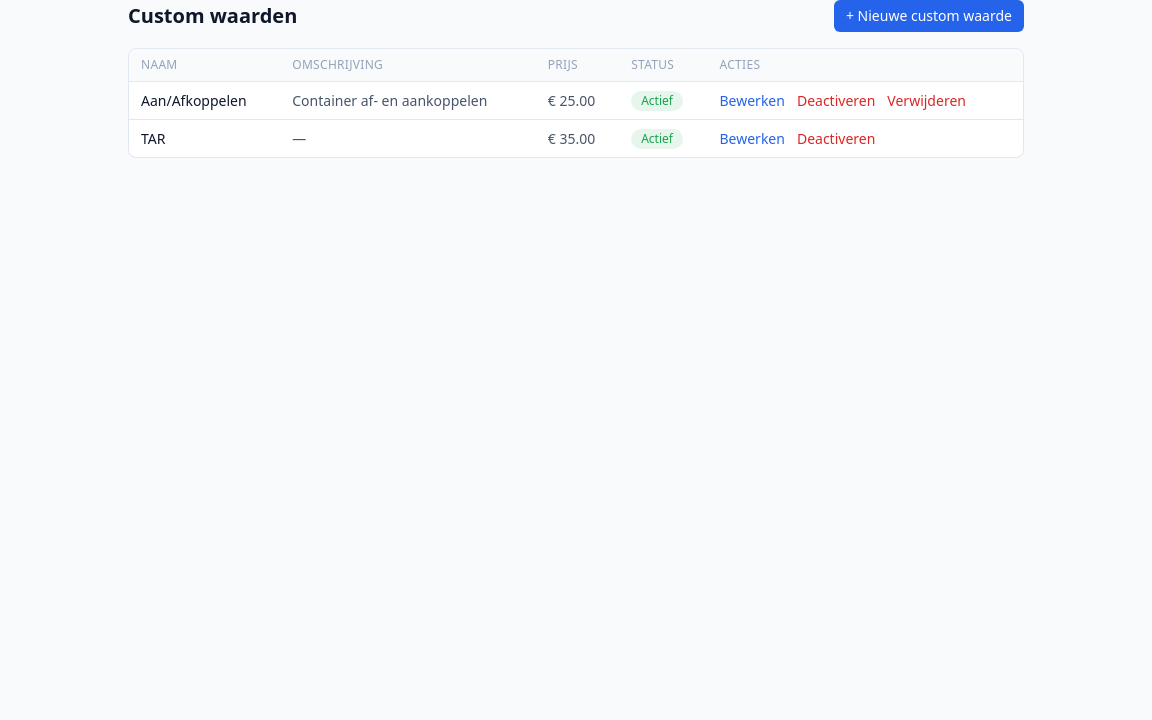
deleting a custom value › the confirmation › opens a dialog rather than a browser confirm
This screenshot has width=1152, height=720.
Expected: the text "Aan/Afkoppelen" is shown, top-left (129, 82), bottom-right (280, 120)
Click the button "Verwijderen": x=927, y=100 top-left (887, 90), bottom-right (966, 110)
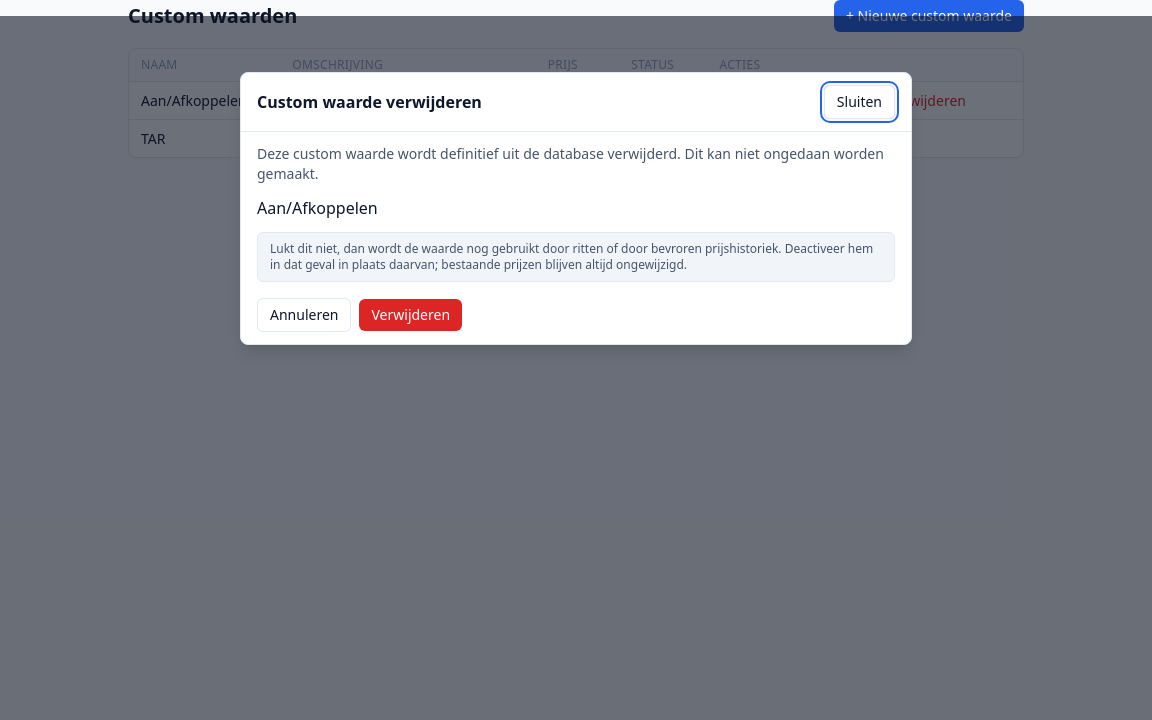
Expected: the dialog is shown, top-left (240, 72), bottom-right (912, 345)
